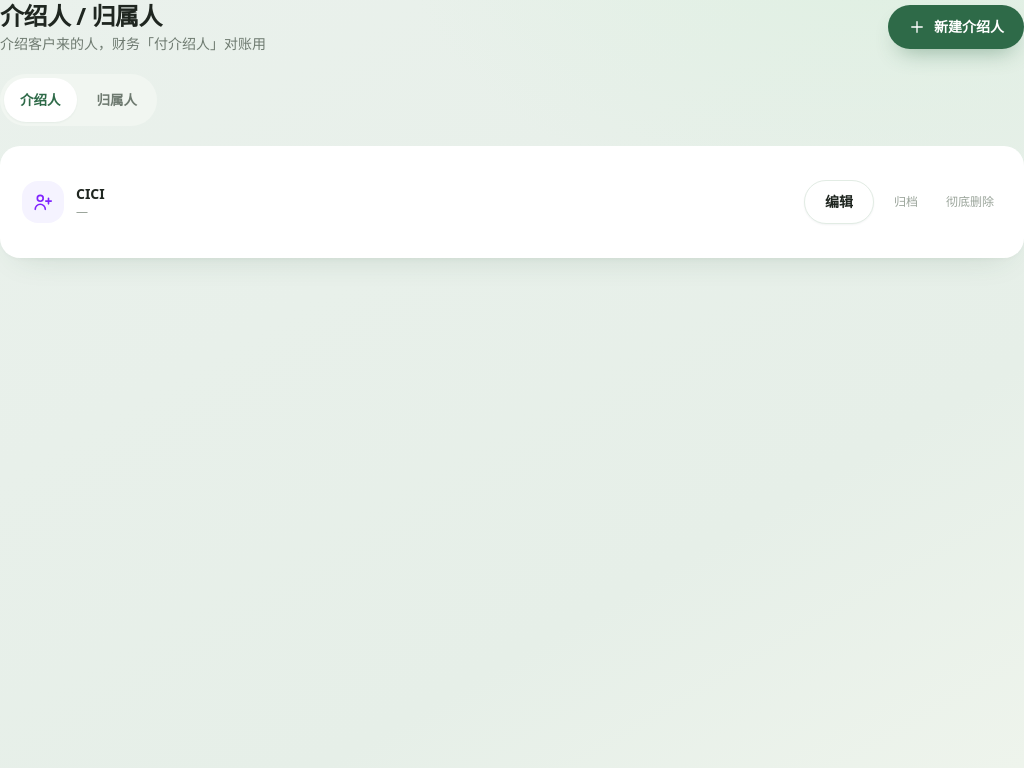
ReferrerListPage · 介绍人/归属人开关（一表两用） › 归属人视图空列表 → 对应空态文案
The width and height of the screenshot is (1024, 768).
Click the button "归属人" at {"x": 117, "y": 100}, box [80,78,153,122]
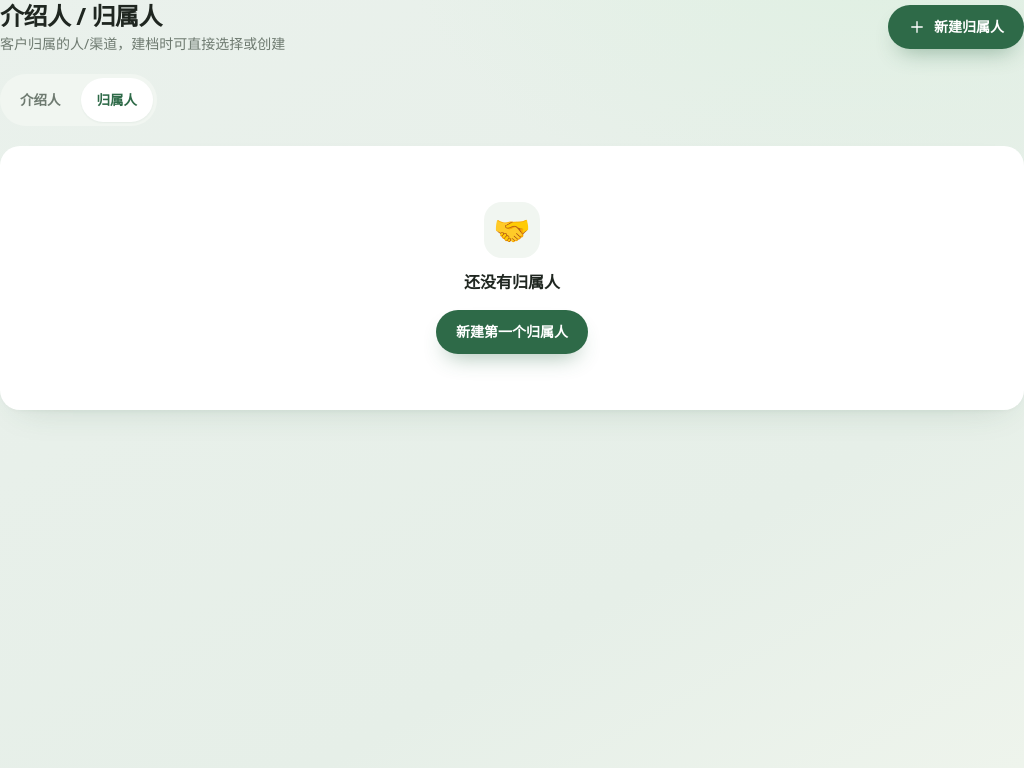
Check: the text "还没有归属人" is shown, box [464,270,560,294]
